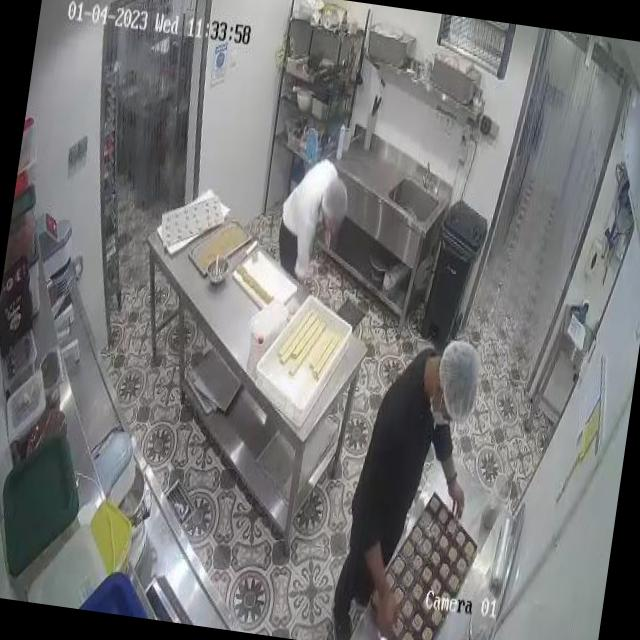hairnet: (436, 338, 486, 422), (318, 176, 351, 227)
